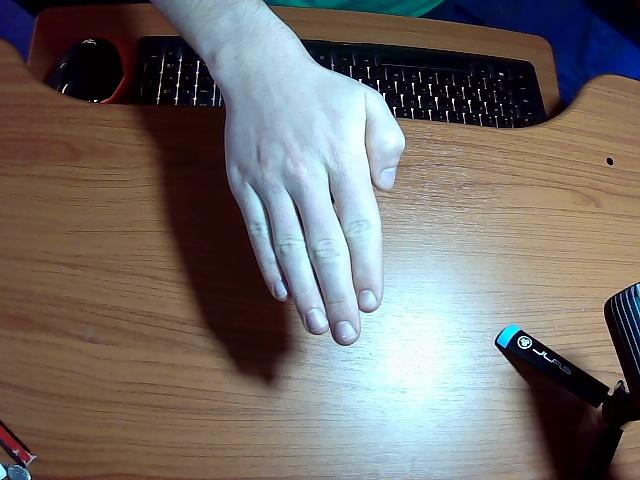paper: (156, 0, 405, 344)
